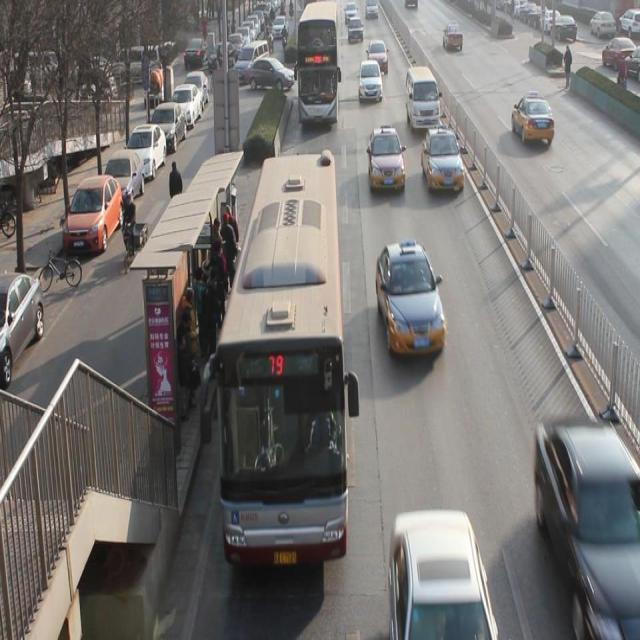car: (537, 421, 640, 623), (392, 515, 499, 630), (376, 248, 448, 355), (422, 130, 466, 197), (368, 128, 406, 192), (511, 95, 556, 149), (358, 62, 383, 102), (367, 42, 389, 74), (444, 22, 464, 53), (348, 18, 364, 42)
truck: (406, 70, 441, 134)
van: (217, 150, 346, 569), (300, 1, 340, 130)
